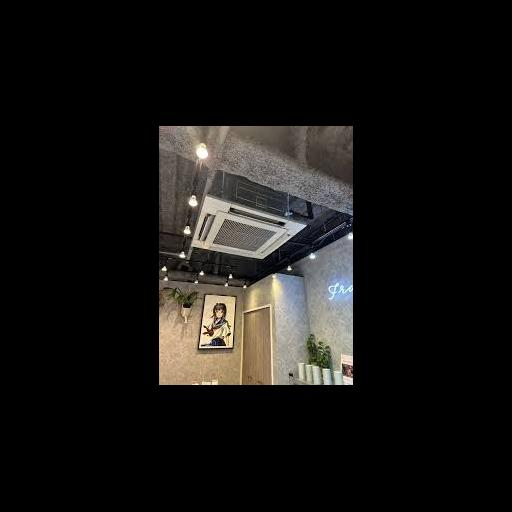4-way-ac: (190, 195, 308, 260)
